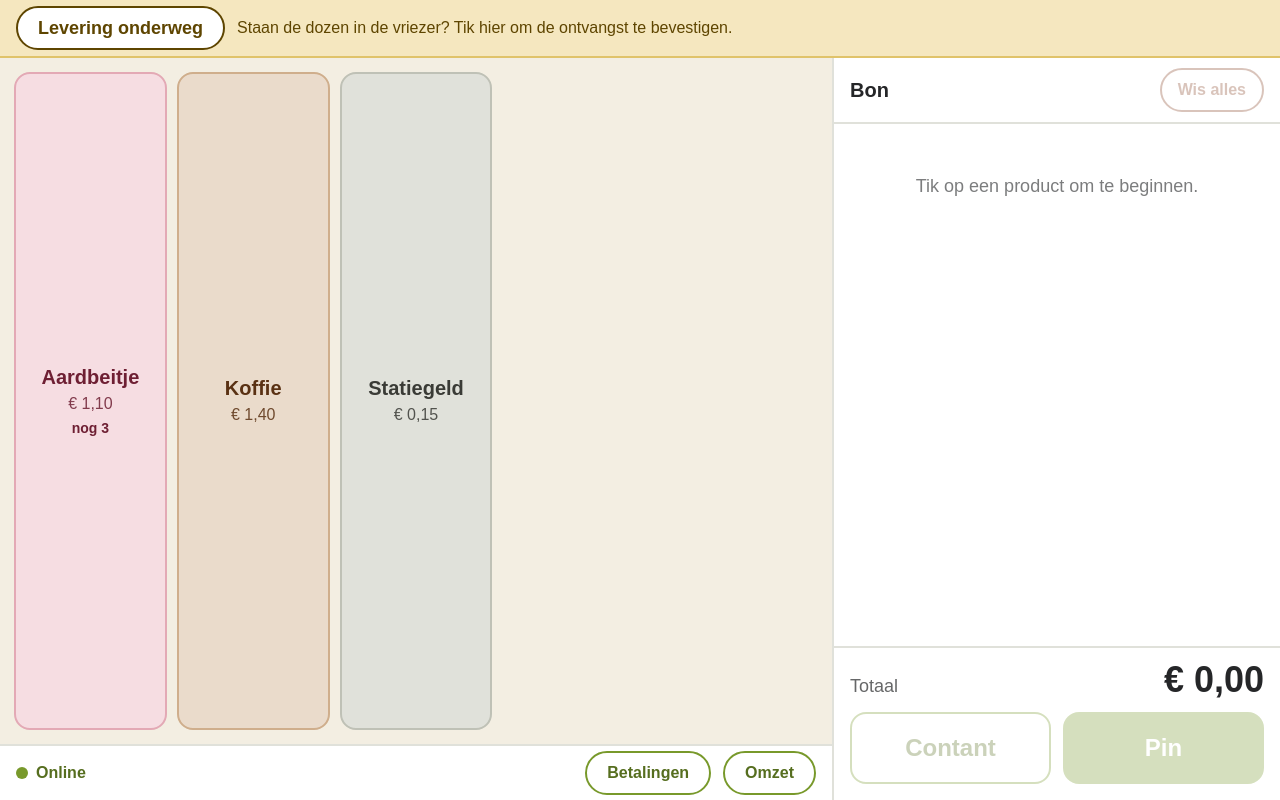
Test: confirms a delivery on the kassa and shows the new stock
expect the text "nog 3" is shown: met, box [72, 418, 109, 438]
Step 1. Click the button "Levering onderweg" → click(120, 28), box [16, 6, 225, 50]
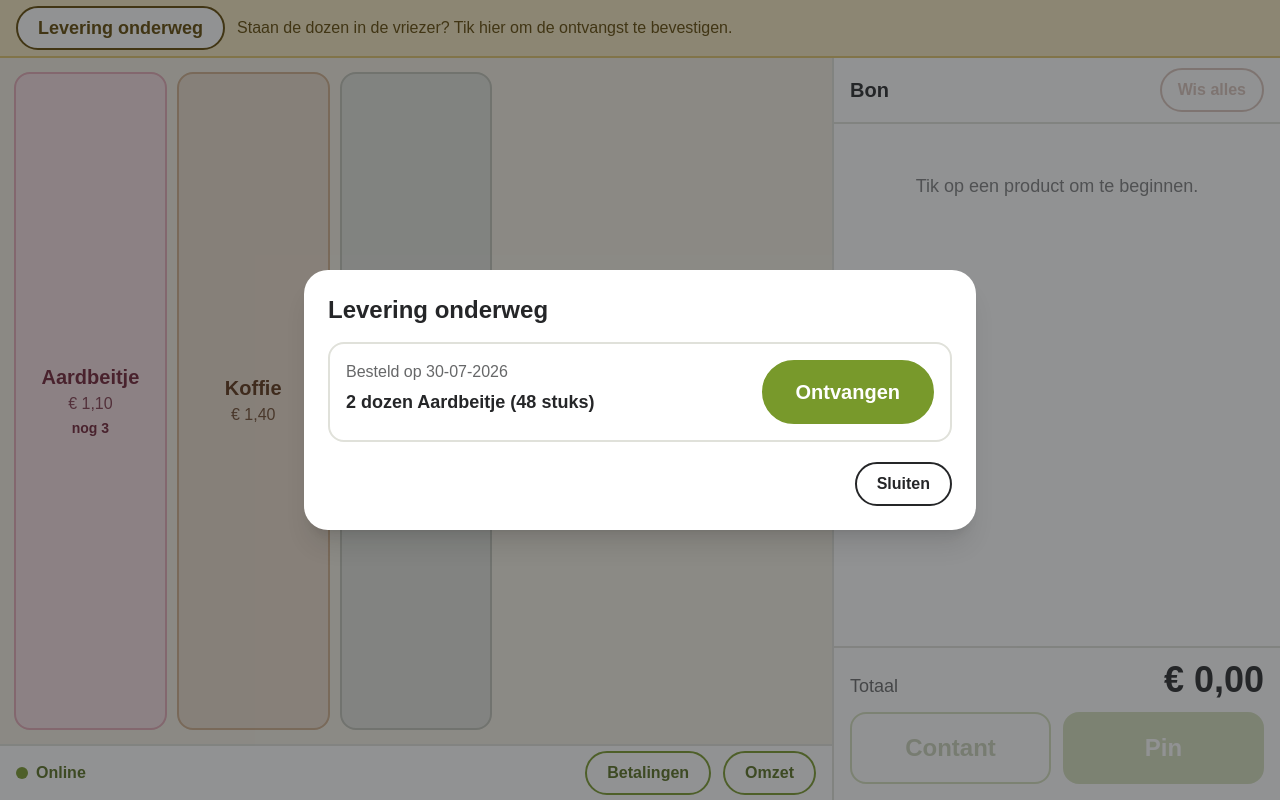
expect the list item "2 dozen Aardbeitje (48 stuks)" is shown: met, box [346, 388, 594, 416]
Step 2. Click the button "Ontvangen" → click(848, 392), box [762, 360, 934, 424]
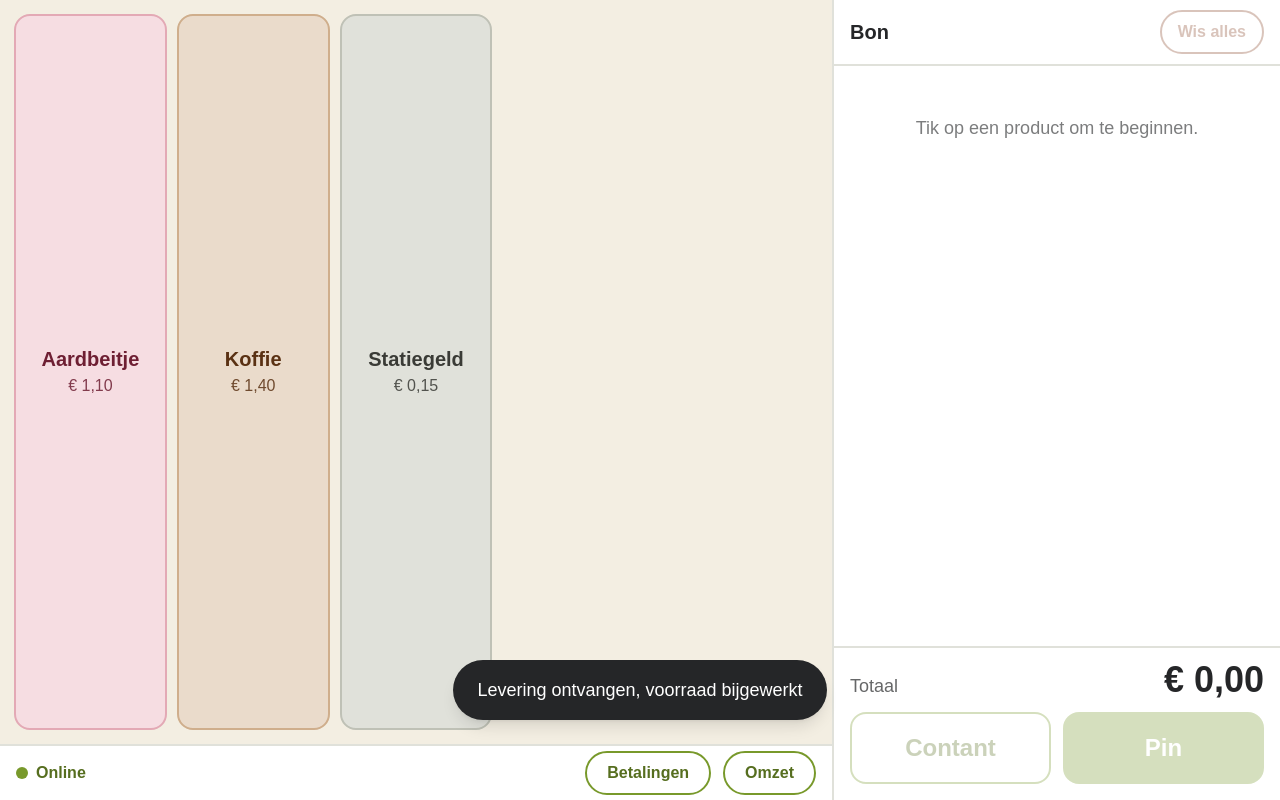
expect the text "Levering ontvangen, voorraad bijgewerkt" is shown: met, box [477, 680, 803, 700]
expect the text "nog 3" is gone: met
expect the button "Levering onderweg" is gone: met
